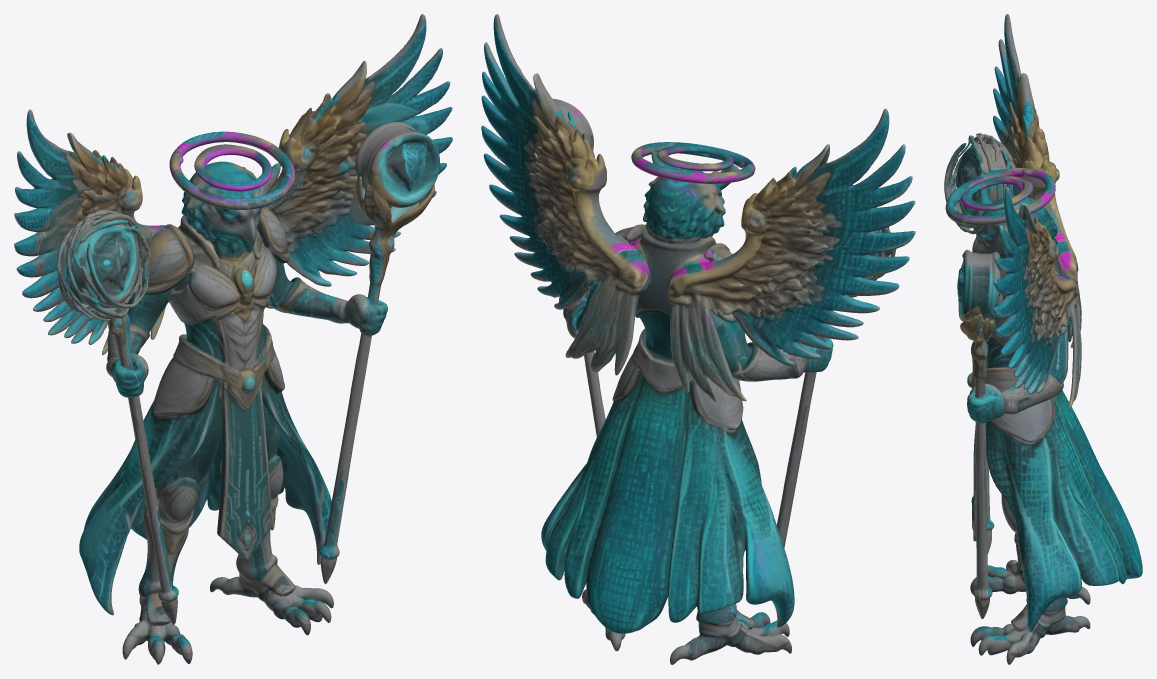
The model's file is aeon.glb.
The picture shows the model from 3 angles, left to right: view 1: azimuth 30°, elevation 25°; view 2: azimuth 150°, elevation 25°; view 3: azimuth 270°, elevation 25°; orthographic projection. The views are drawn at different scales.
Parts seen in each view (by area): view 1: tripo_node_f4a3d1ec-e453-4632-8101-81e6cc00a29e; view 2: tripo_node_f4a3d1ec-e453-4632-8101-81e6cc00a29e; view 3: tripo_node_f4a3d1ec-e453-4632-8101-81e6cc00a29e.
Part boxes in pixels (bbox=[...]): tripo_node_f4a3d1ec-e453-4632-8101-81e6cc00a29e: bbox=[14, 14, 452, 664]; tripo_node_f4a3d1ec-e453-4632-8101-81e6cc00a29e: bbox=[481, 14, 915, 664]; tripo_node_f4a3d1ec-e453-4632-8101-81e6cc00a29e: bbox=[944, 14, 1142, 664].
Bounding box in the file's own units: 0.7983 × 1 × 0.3468.
1 material, 1 textured.
